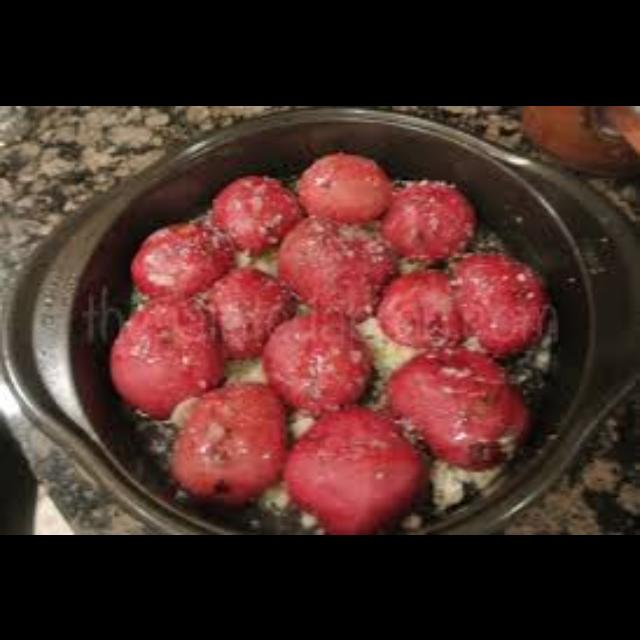Defected potato: (281, 399, 435, 533), (106, 290, 230, 420)
